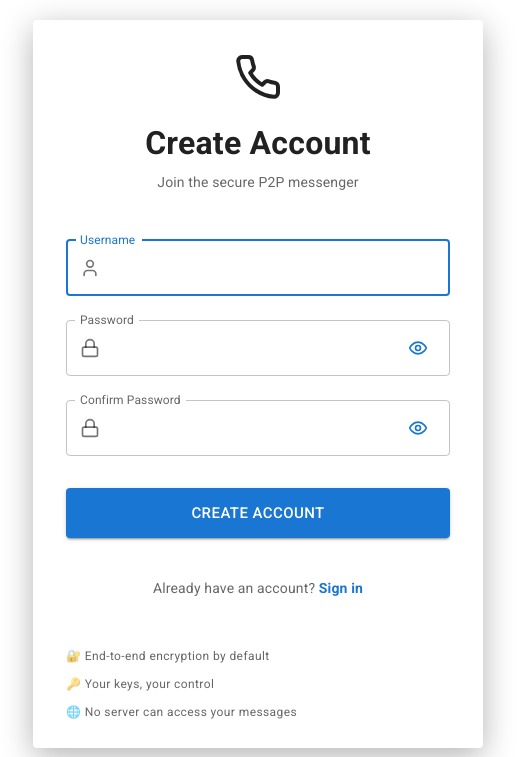
RegisterForm › shows validation error for password mismatch
Type "testuser" into the field labelled "Username" at point(279, 268), box [108,240,450,296]
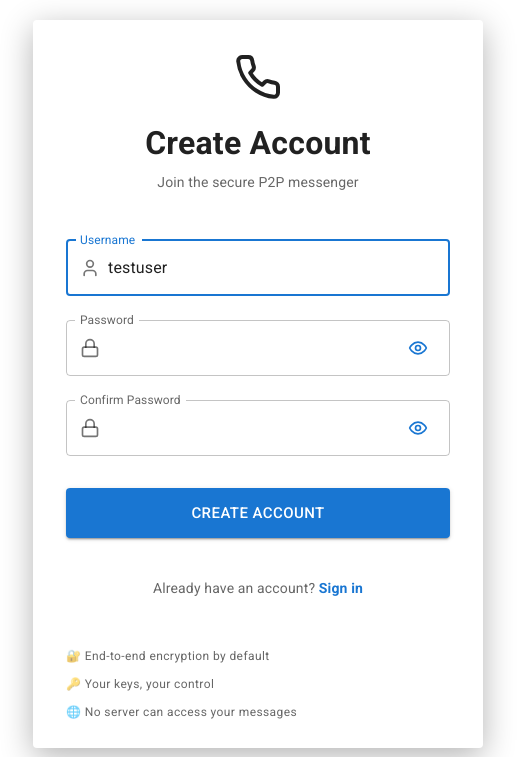
Type "password123" into the password field labelled "Password" at point(250, 348), box [108,320,392,376]
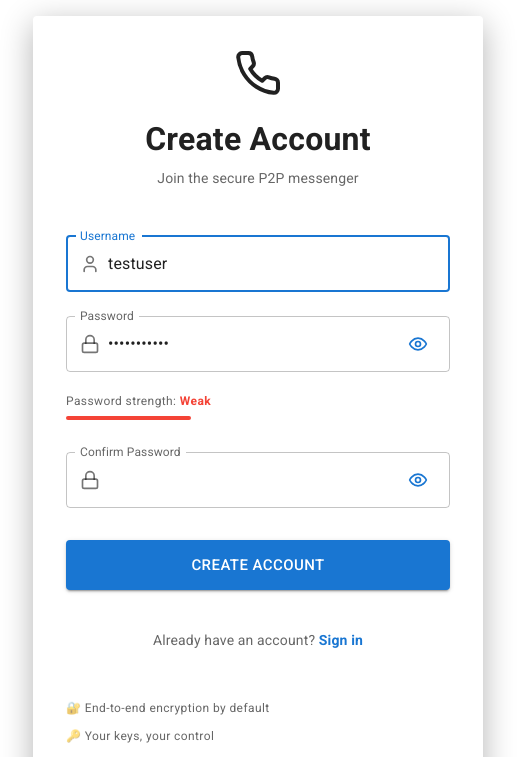
Type "password456" into the password field labelled "Confirm Password" at point(250, 480), box [108,452,392,508]
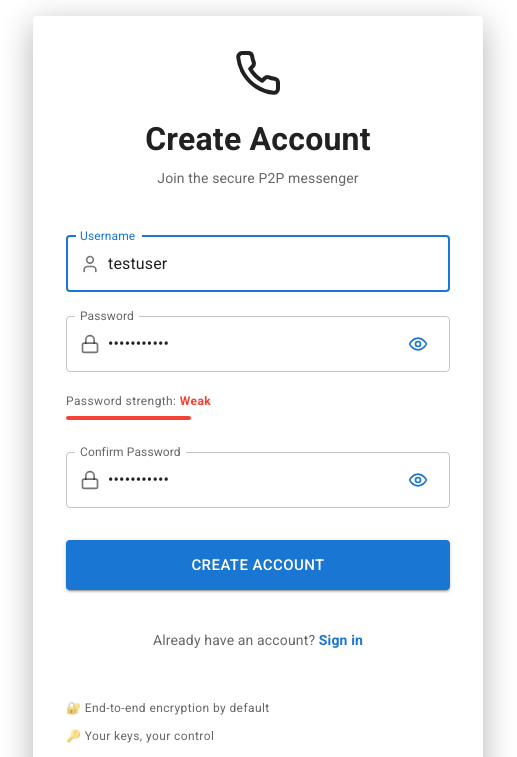
Click the button "Create Account" at point(258, 565), box [66,540,450,590]
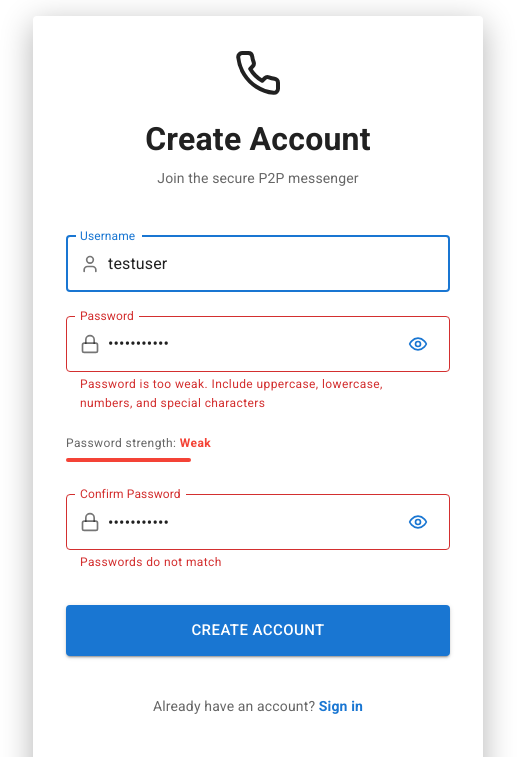
Result: the text "Passwords do not match" is shown at [80,555,222,569]
